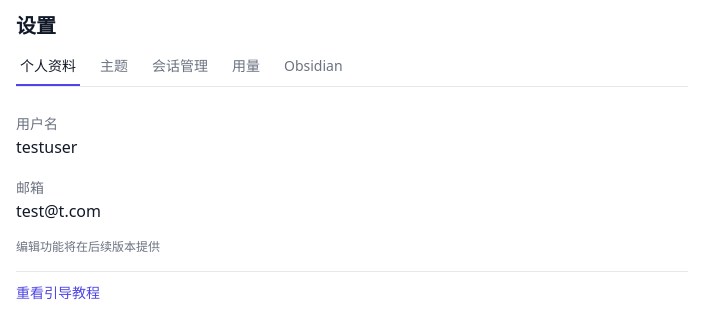
Test case: SettingsPage › switches to sessions tab and shows loading state
The image size is (705, 317).
Click the button "会话管理" at (180, 71), box [148,56,212,86]
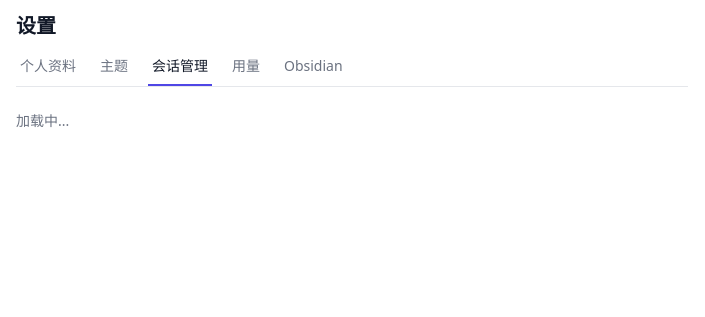
Expected: the text "加载中..." is shown, [16,111,69,130]
